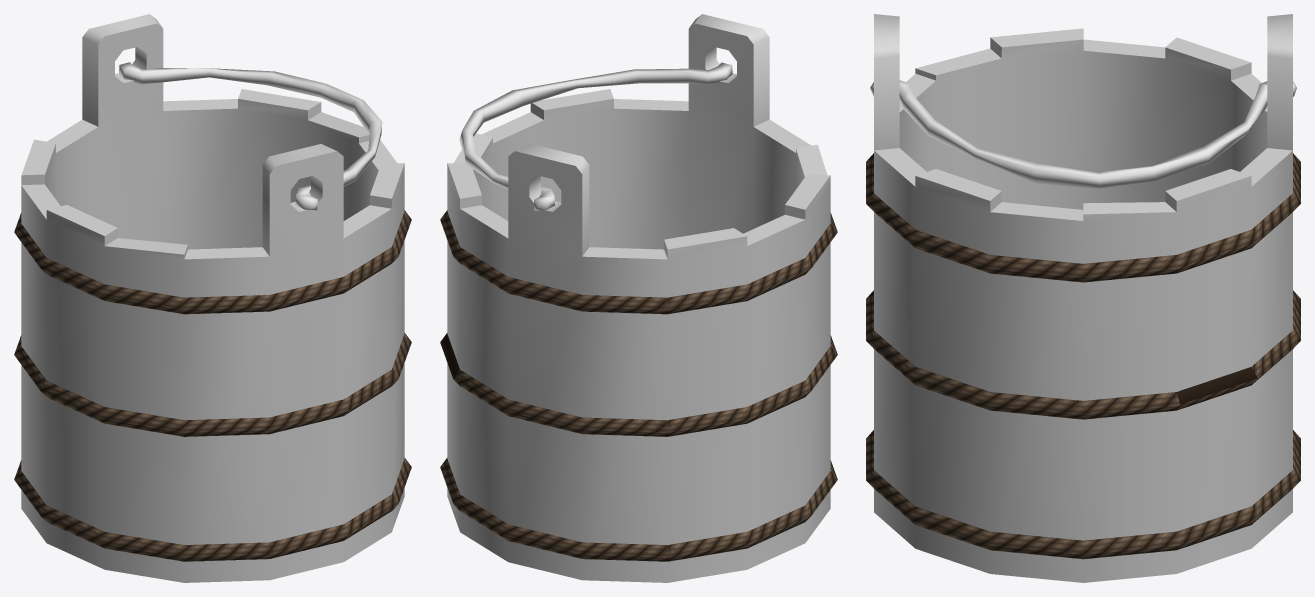
The model's file is Bucket3.fbx.
The picture shows the model from 3 angles, left to right: view 1: azimuth 30°, elevation 25°; view 2: azimuth 150°, elevation 25°; view 3: azimuth 270°, elevation 25°; orthographic projection. The views are drawn at different scales.
Visible parts, largest first — view 1: polySurface51; view 2: polySurface51; view 3: polySurface51.
Boxes of the visible parts, x1,y1,x2,y2 form: polySurface51: [14, 14, 411, 582]; polySurface51: [440, 14, 837, 582]; polySurface51: [866, 14, 1300, 582].
Bounding box in the file's own units: 0.5094 × 0.5815 × 0.4966.
